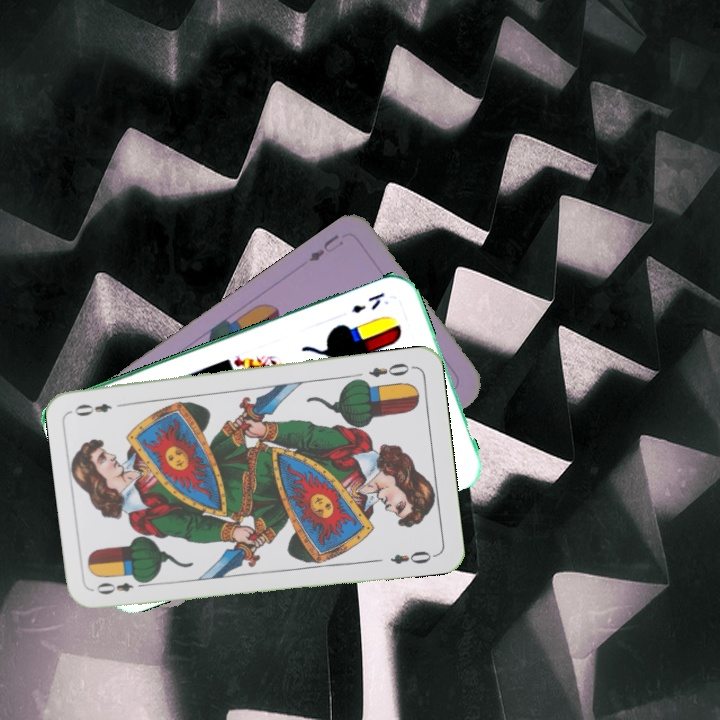EK: (347, 288, 387, 316)
EO: (92, 574, 150, 597), (365, 359, 412, 380)
EU: (305, 230, 347, 265)
